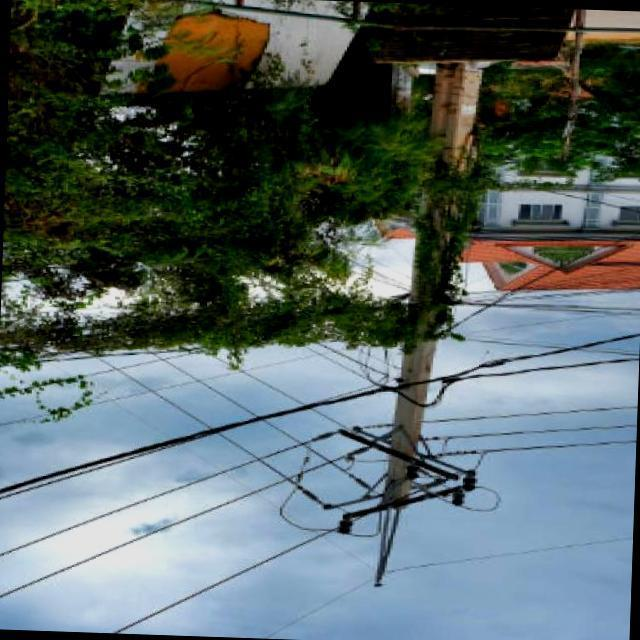critical vegetation: (382, 130, 473, 376)
